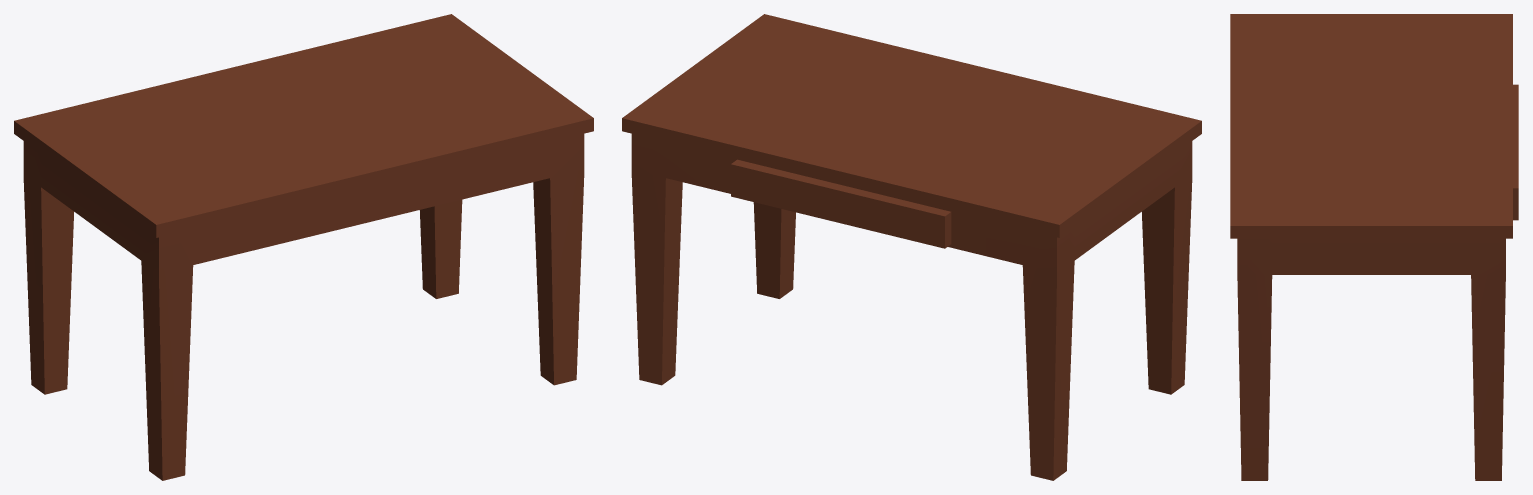
File: table.fbx
The picture shows the model from 3 angles, left to right: view 1: azimuth 30°, elevation 25°; view 2: azimuth 150°, elevation 25°; view 3: azimuth 270°, elevation 25°; orthographic projection.
Visible parts, largest first — view 1: Table; view 2: Table; view 3: Table.
Part boxes in pixels (x1,y1,x2,y2): Table: [14, 14, 593, 480]; Table: [622, 14, 1201, 480]; Table: [1230, 14, 1518, 480].
Size of the model in its own units: 131 by 75.06 by 75.12.
